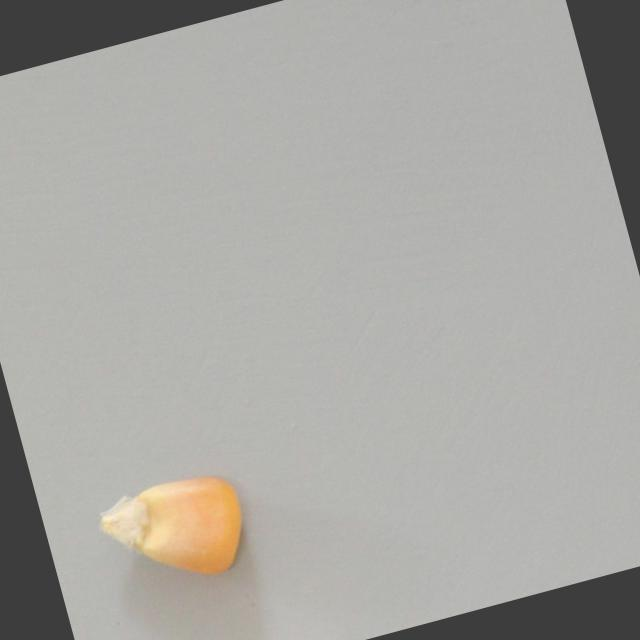entero: (89, 459, 255, 601), (318, 629, 363, 640)
